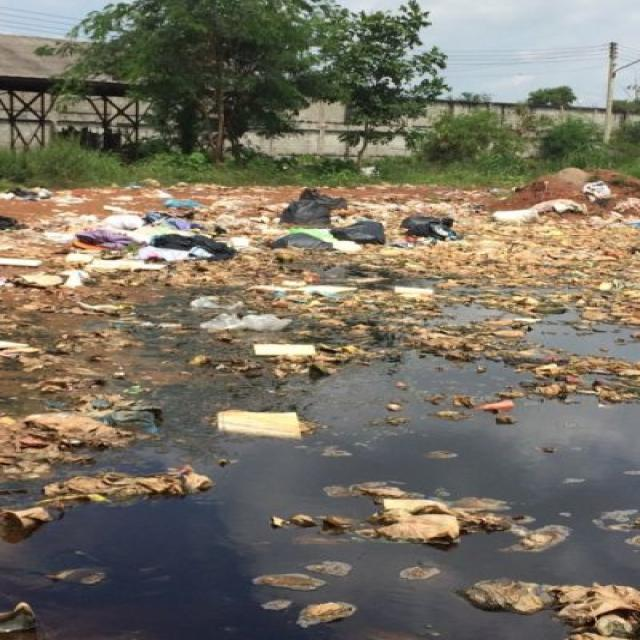-: (328, 233, 640, 640)
